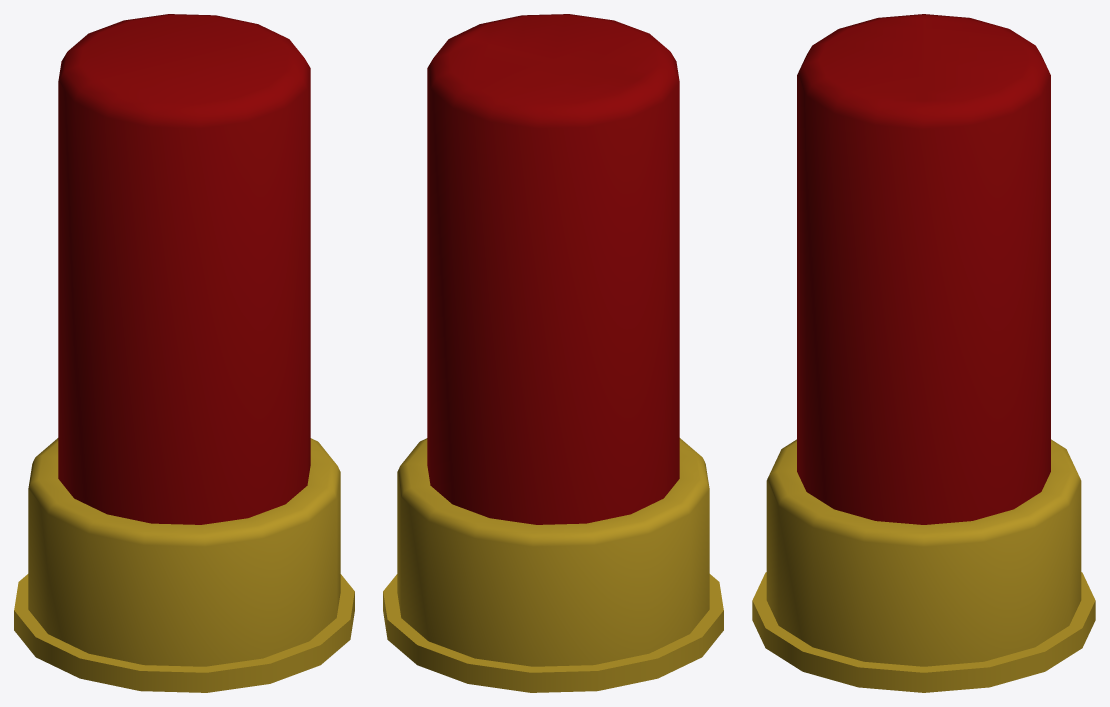
Rendered from schrot.fbx.
3 views of the same model, side by side, from view 1: azimuth 30°, elevation 25°; view 2: azimuth 150°, elevation 25°; view 3: azimuth 270°, elevation 25° (orthographic).
Visible parts, largest first — view 1: Cylinder; view 2: Cylinder; view 3: Cylinder.
Part boxes in pixels (bbox=[...]): Cylinder: bbox=[14, 14, 354, 692]; Cylinder: bbox=[383, 14, 723, 692]; Cylinder: bbox=[752, 14, 1095, 692].
Size of the model in its own units: 270 by 487 by 270.
